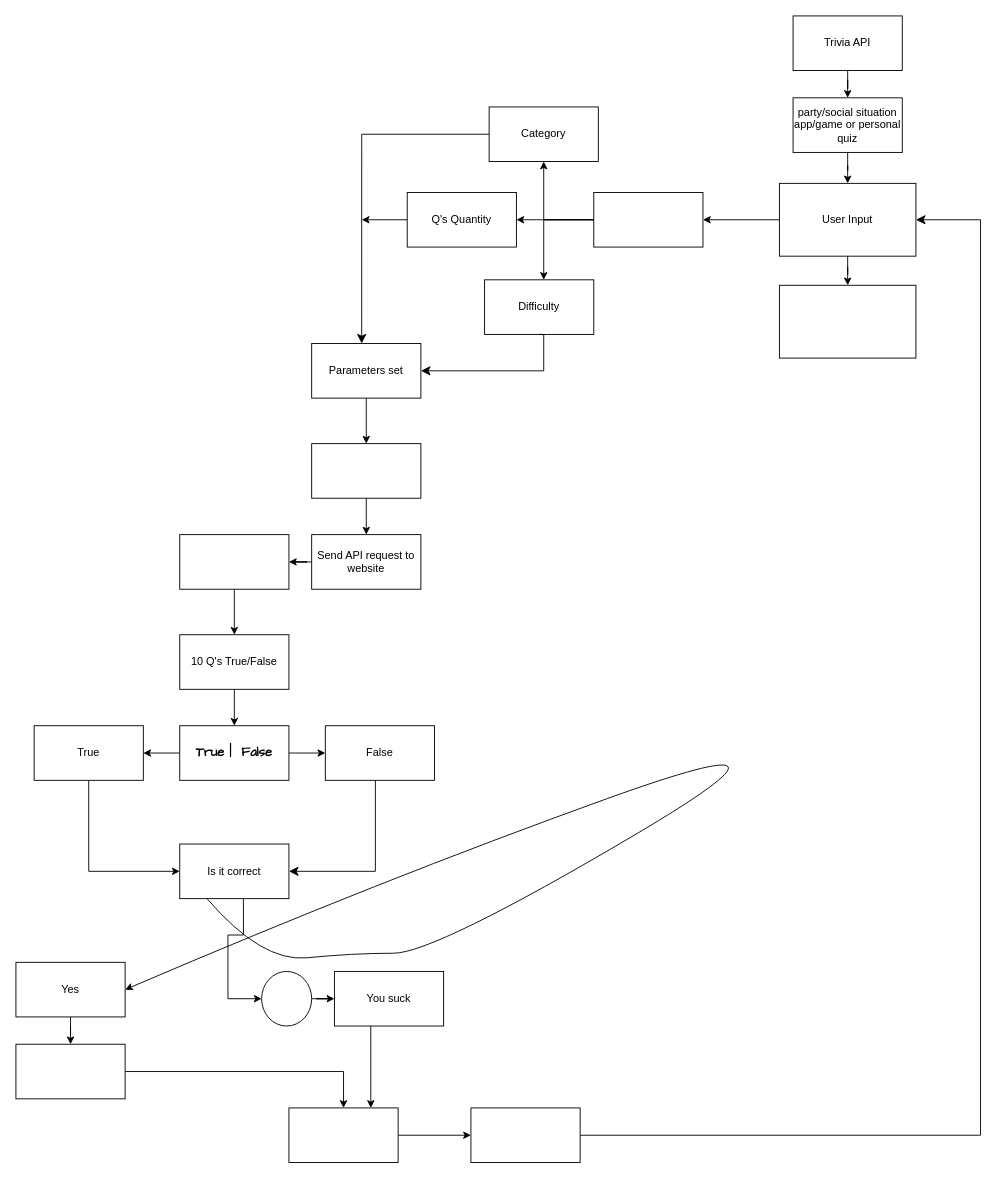
The diagram is 1006 pixels wide and 1178 high, and some of its shapes have lost their labels. The shapes that lost their labels are listed below. From the top down, each one's centre as x and y in pixels, then its label:
At (x=648, y=219): "Selection".
At (x=847, y=321): "Limit categories for initial development - expand when functionality is in place".
At (x=366, y=470): "user inputs placed into URL".
At (x=234, y=561): "Pull that info on to page".
At (x=286, y=998): "No".
At (x=70, y=1071): "Pat on head".
At (x=343, y=1135): "Scores /10".
At (x=525, y=1135): "Play again?".
